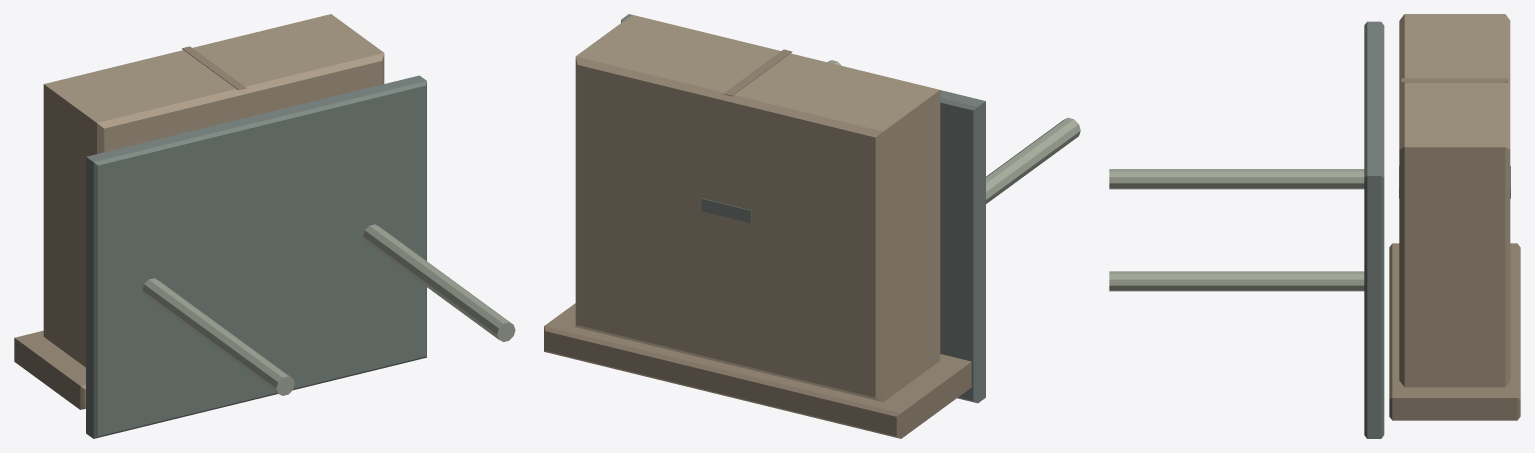
Rendered from PusherHead.fbx.
3 renders of one model, left to right at view 1: azimuth 30°, elevation 25°; view 2: azimuth 150°, elevation 25°; view 3: azimuth 270°, elevation 25°, orthographic. The views are drawn at different scales.
Parts seen in each view (by area): view 1: PushPlate__Steel, EndlessLoad__Cardboard, PushRods__WornSteel, EndlessLoad__Timber, CartonSeams__Timber; view 2: EndlessLoad__Cardboard, EndlessLoad__Timber, PushPlate__Steel, PushRods__WornSteel, CartonHandholds__ConcreteDark, CartonSeams__Timber; view 3: EndlessLoad__Cardboard, PushRods__WornSteel, PushPlate__Steel, EndlessLoad__Timber, CartonSeams__Timber.
Part boxes in pixels (left/top/right/bottom): PushPlate__Steel: left=86, top=75, right=426, bottom=438; EndlessLoad__Cardboard: left=43, top=14, right=384, bottom=367; PushRods__WornSteel: left=142, top=224, right=515, bottom=395; EndlessLoad__Timber: left=14, top=330, right=85, bottom=409; CartonSeams__Timber: left=182, top=46, right=246, bottom=89; EndlessLoad__Cardboard: left=575, top=15, right=940, bottom=401; EndlessLoad__Timber: left=544, top=303, right=971, bottom=438; PushPlate__Steel: left=621, top=14, right=985, bottom=403; PushRods__WornSteel: left=827, top=60, right=1080, bottom=203; CartonHandholds__ConcreteDark: left=701, top=198, right=751, bottom=223; CartonSeams__Timber: left=723, top=49, right=792, bottom=96; EndlessLoad__Cardboard: left=1399, top=14, right=1510, bottom=387; PushRods__WornSteel: left=1109, top=169, right=1364, bottom=291; PushPlate__Steel: left=1364, top=21, right=1384, bottom=438; EndlessLoad__Timber: left=1389, top=243, right=1520, bottom=420; CartonSeams__Timber: left=1401, top=78, right=1508, bottom=82.
Size of the model in its own units: 1.45 by 1.23 by 1.63.
